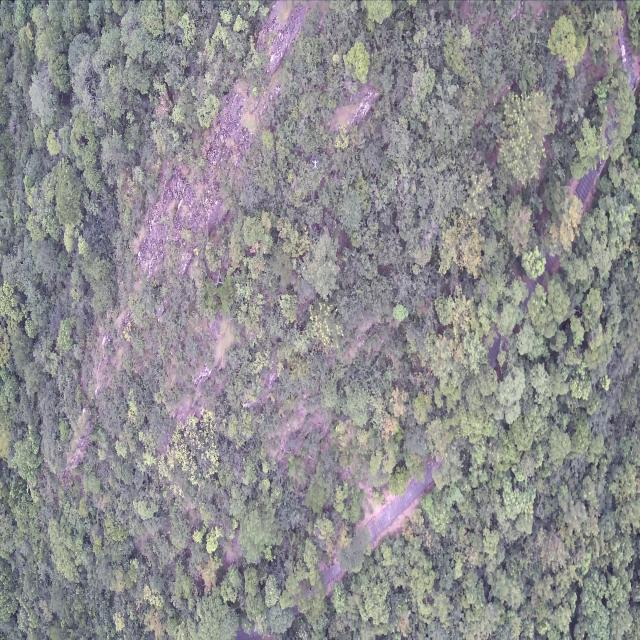UAV: (312, 160, 318, 169)
